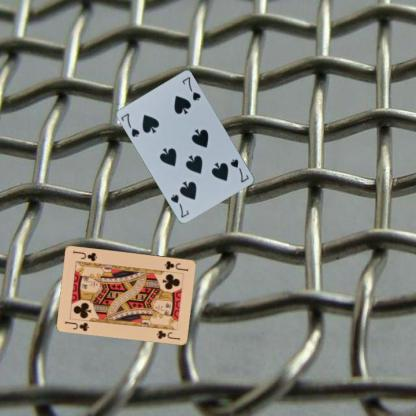7s: (118, 111, 141, 139), (228, 156, 250, 184)
Jc: (62, 318, 91, 333), (162, 258, 190, 272)
